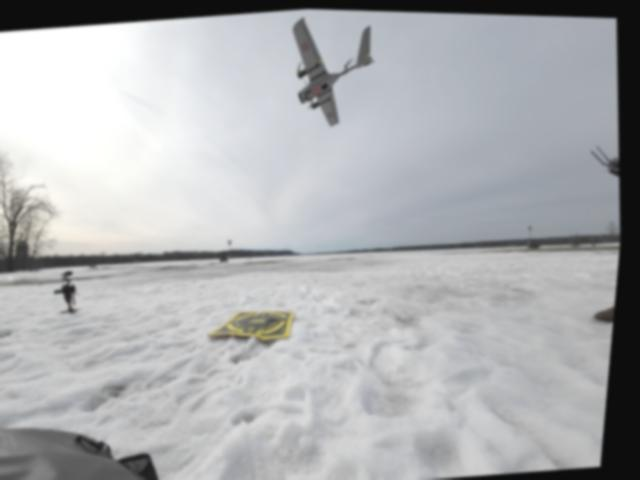plane: (282, 9, 385, 130)
